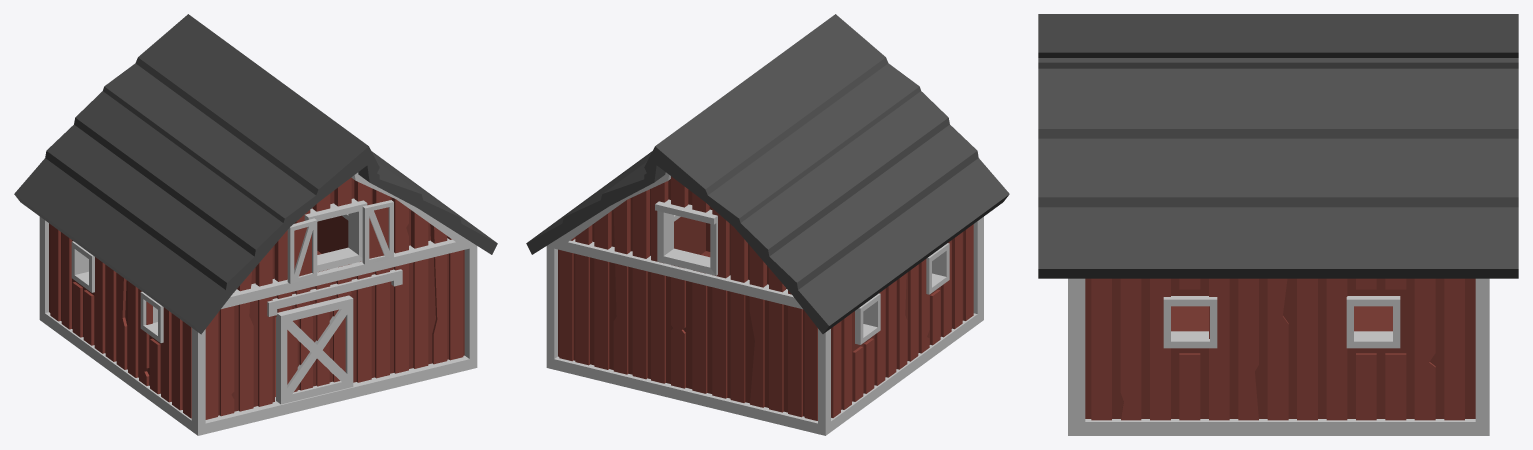
The model's file is small-barn.glb.
3 renders of one model, left to right at view 1: azimuth 30°, elevation 25°; view 2: azimuth 150°, elevation 25°; view 3: azimuth 270°, elevation 25°, orthographic. The views are drawn at different scales.
Parts seen in each view (by area): view 1: Small_Barn_Cube.013; view 2: Small_Barn_Cube.013; view 3: Small_Barn_Cube.013.
Boxes of the visible parts, box(x1,y1,x2,y2) form: Small_Barn_Cube.013: box(14, 14, 497, 435); Small_Barn_Cube.013: box(526, 14, 1009, 435); Small_Barn_Cube.013: box(1038, 14, 1518, 435).
Bounding box in the file's own units: 6.08 × 4.96 × 6.27.
